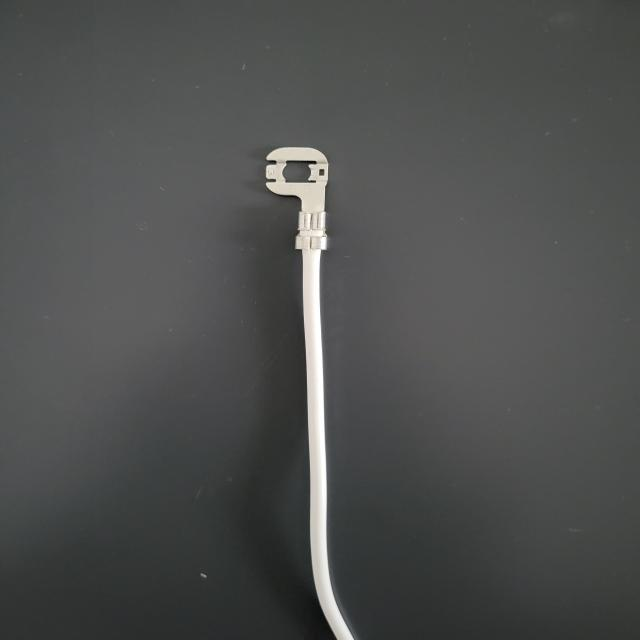defect: (258, 204, 380, 272)
